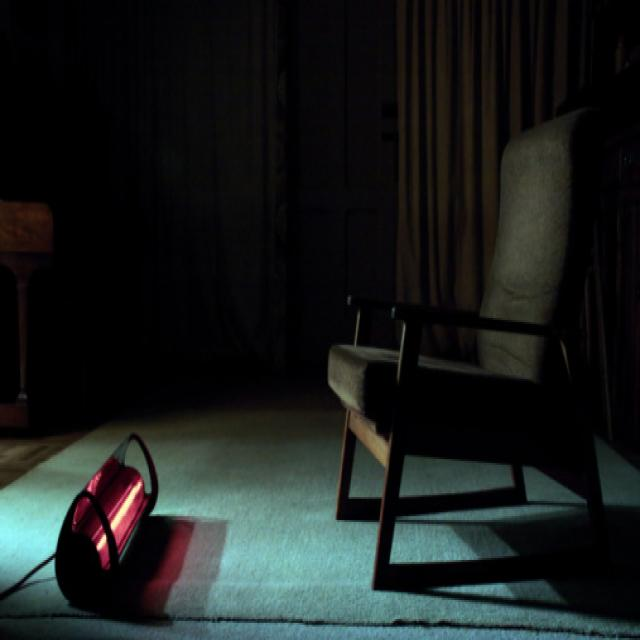chair: (322, 87, 615, 591)
